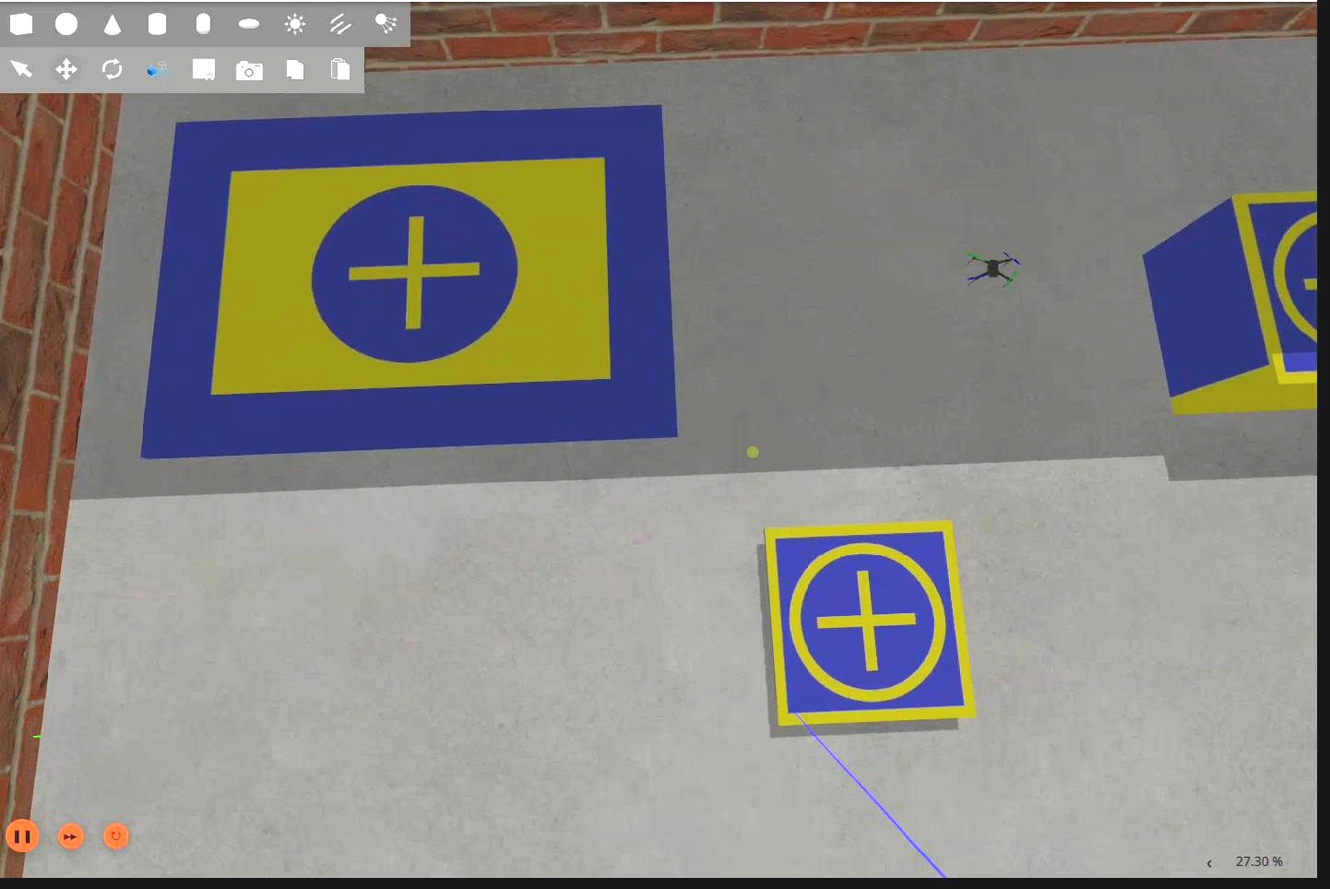large_base: (137, 104, 681, 456)
small_base: (765, 523, 977, 728), (1234, 192, 1320, 384)
